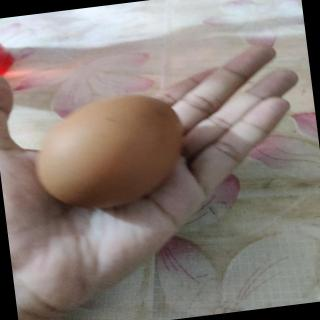Telur: (28, 87, 197, 221)
